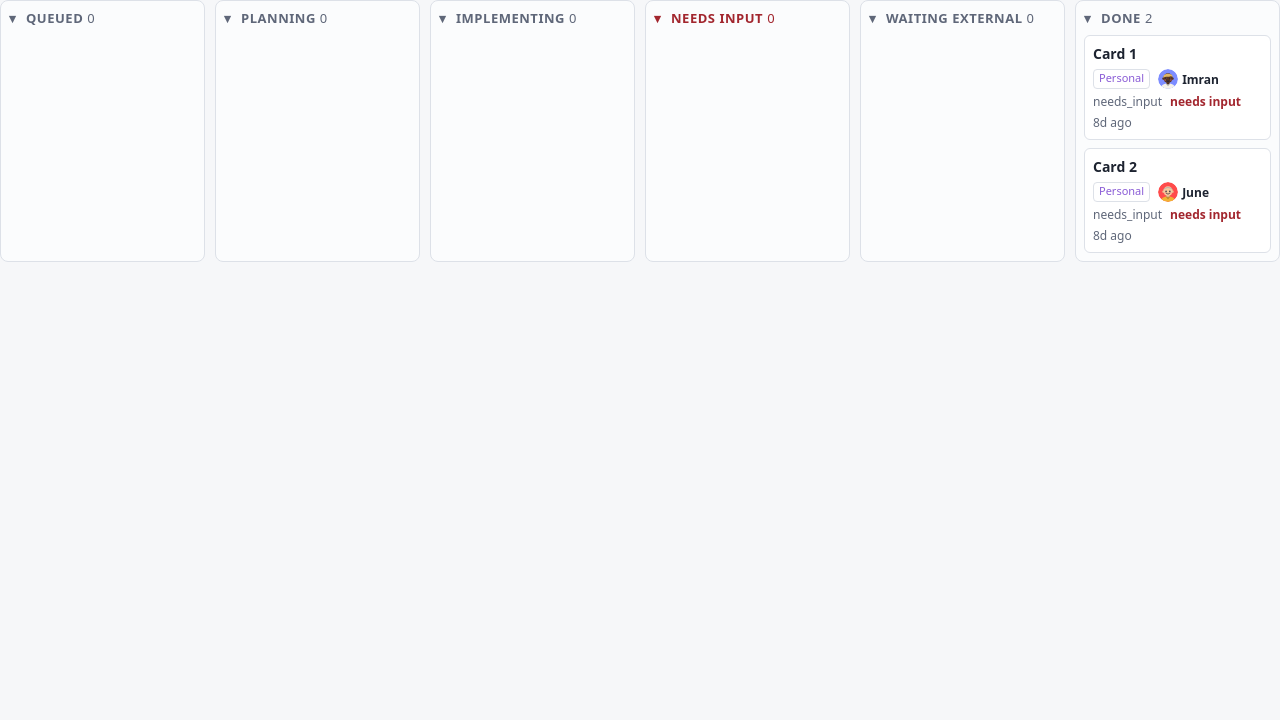
Test: collapsible columns (UX-9) › FR-1/FR-2: the toggle hides the cards and leaves a strip with the count
The width and height of the screenshot is (1280, 720).
Click the button with class "column-toggle" showing "▾ Done 2".
click(1118, 18)  # box [1084,9,1153,27]
(page scrolled)
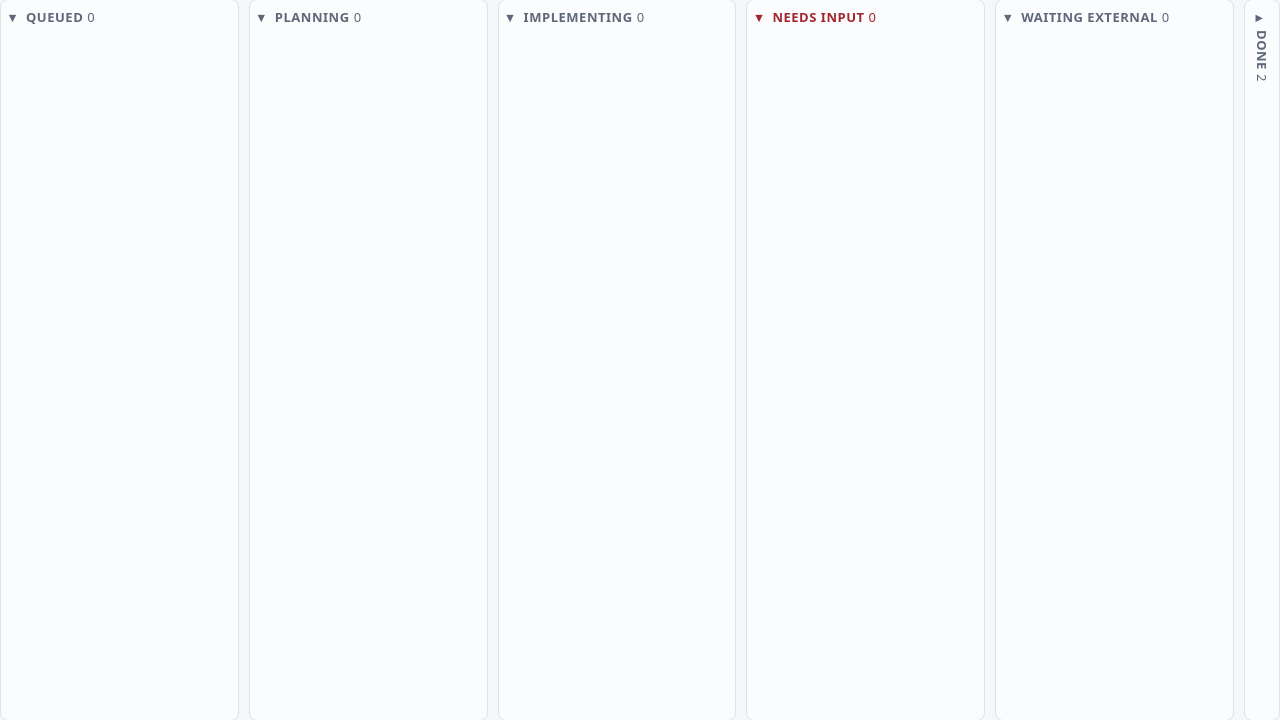
Expected: the text with class "count" reads "2", [1253,74,1271,82]
Now the button with class "column-toggle" is collapsed
// FR-2: the strip is the button, so clicking it expands the column.
Click the button with class "column-toggle" showing "▸ Done 2".
click(1262, 360)  # box [1245,0,1279,719]
(page scrolled)
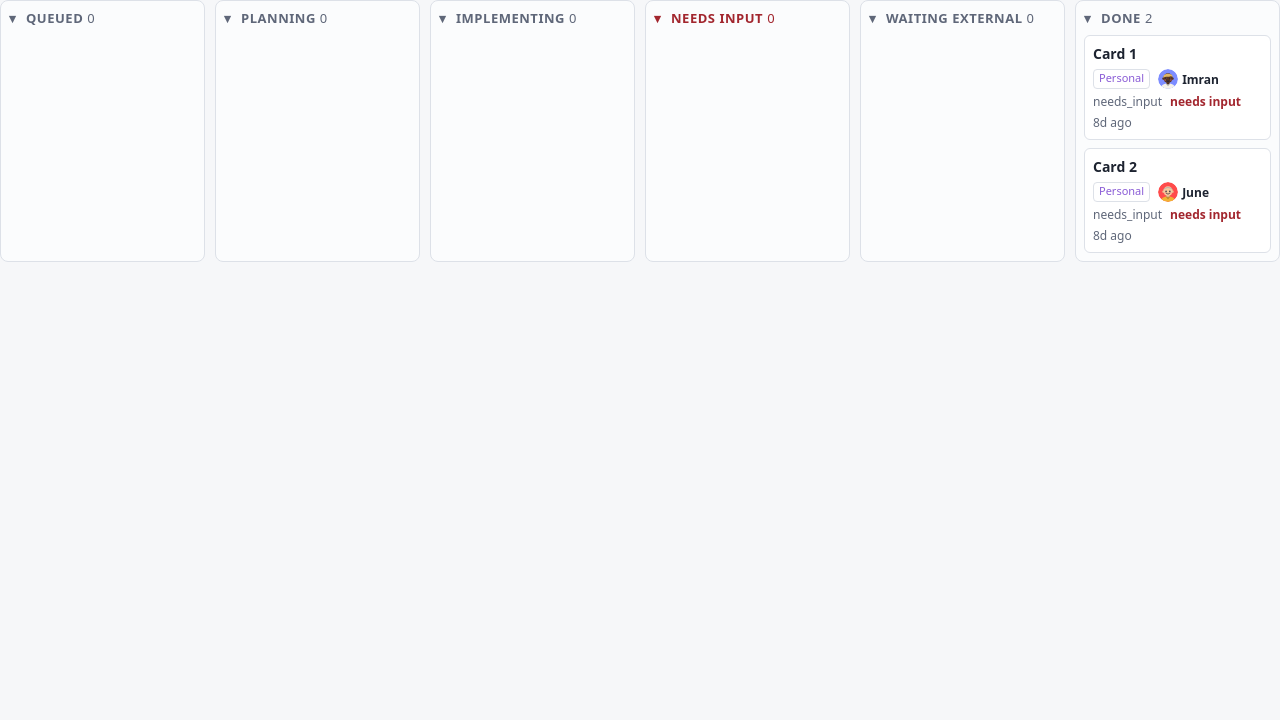
Now the button with class "column-toggle" is expanded, box [1084,9,1153,27]
